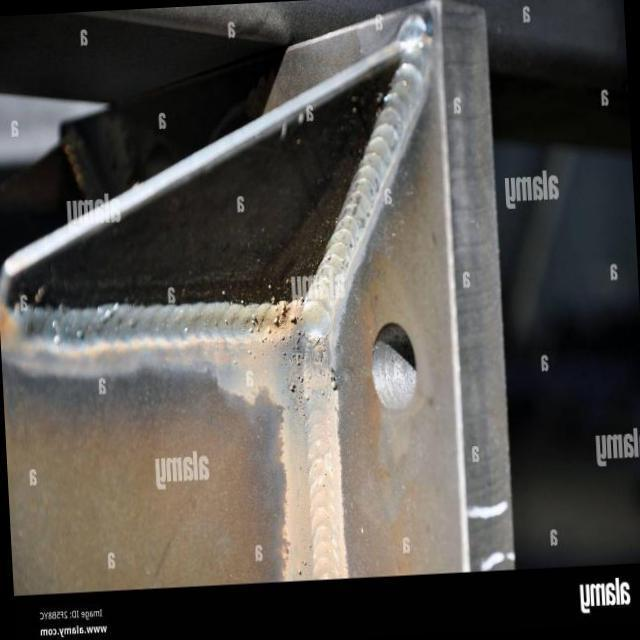defect: (247, 302, 305, 343), (281, 330, 307, 367), (285, 377, 296, 394), (330, 377, 339, 392), (302, 390, 311, 402), (296, 374, 305, 383)
